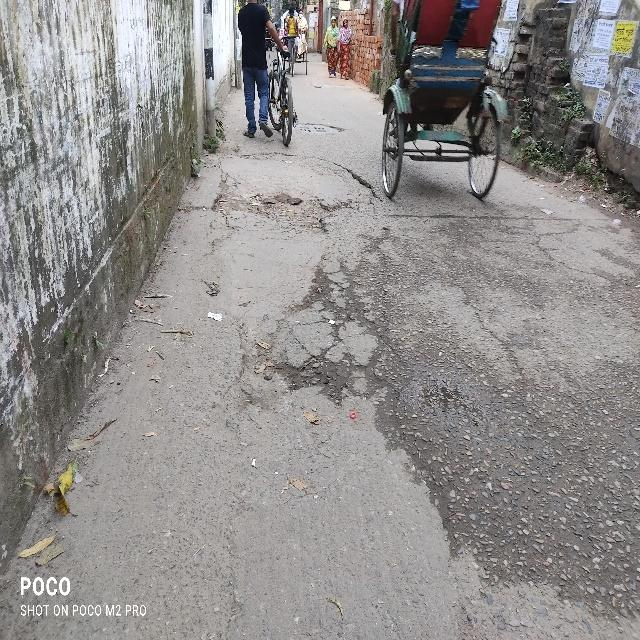Crack: (226, 263, 468, 422)
Surface Erosion: (234, 155, 421, 232)
